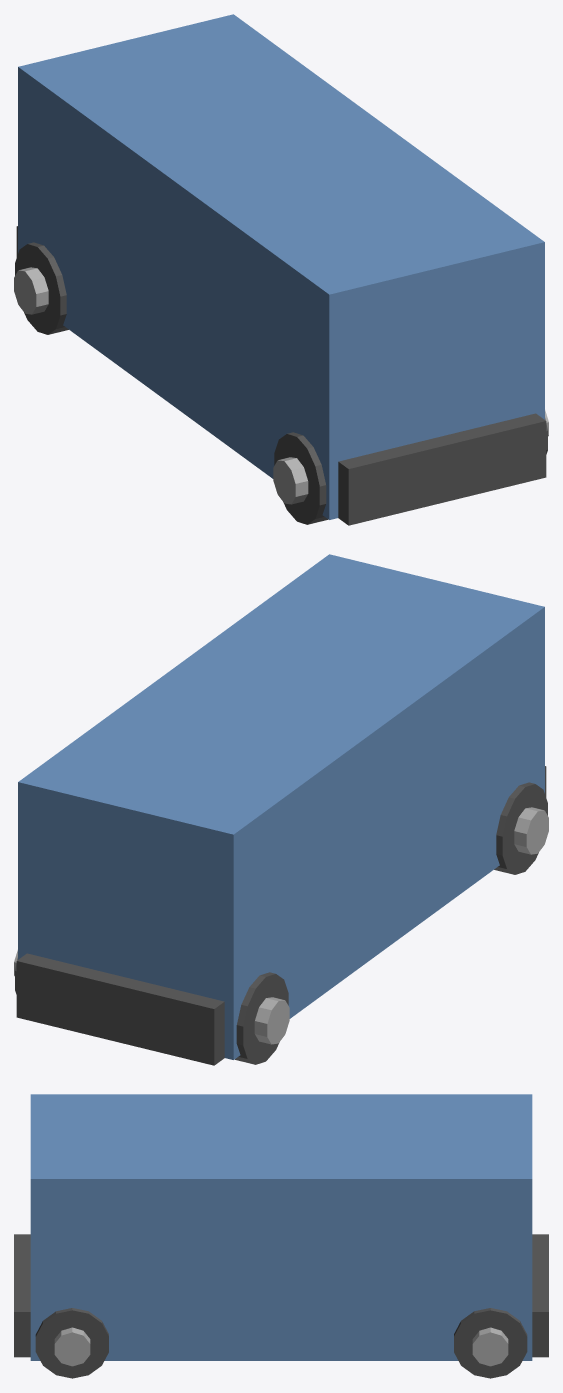
The model's file is container_trailer.glb.
The picture shows the model from 3 angles, top to bottom: view 1: azimuth 30°, elevation 25°; view 2: azimuth 150°, elevation 25°; view 3: azimuth 270°, elevation 25°; orthographic projection. The views are drawn at different scales.
Parts seen in each view (by area): view 1: container, chassis, wheel_fr, wheel_rr, hub_-1_1, hub_-1_-1; view 2: container, chassis, wheel_rr, wheel_fr, hub_-1_-1, hub_-1_1; view 3: container, chassis, wheel_fl, wheel_rl, hub_1_1, hub_1_-1.
Part boxes in pixels (bbox=[...]): container: bbox=[18, 14, 544, 519]; chassis: bbox=[16, 226, 546, 525]; wheel_fr: bbox=[274, 432, 327, 524]; wheel_rr: bbox=[15, 242, 68, 334]; hub_-1_1: bbox=[273, 457, 308, 504]; hub_-1_-1: bbox=[14, 267, 48, 314]; container: bbox=[18, 554, 544, 1059]; chassis: bbox=[16, 766, 546, 1065]; wheel_rr: bbox=[235, 972, 288, 1064]; wheel_fr: bbox=[494, 782, 547, 874]; hub_-1_-1: bbox=[254, 997, 289, 1044]; hub_-1_1: bbox=[514, 807, 548, 854]; container: bbox=[30, 1094, 532, 1360]; chassis: bbox=[14, 1234, 548, 1357]; wheel_fl: bbox=[35, 1308, 108, 1378]; wheel_rl: bbox=[454, 1308, 527, 1378]; hub_1_1: bbox=[54, 1327, 90, 1366]; hub_1_-1: bbox=[472, 1327, 508, 1366].
Bounding box in the file's own units: 2.82 × 2.6 × 6.4.
